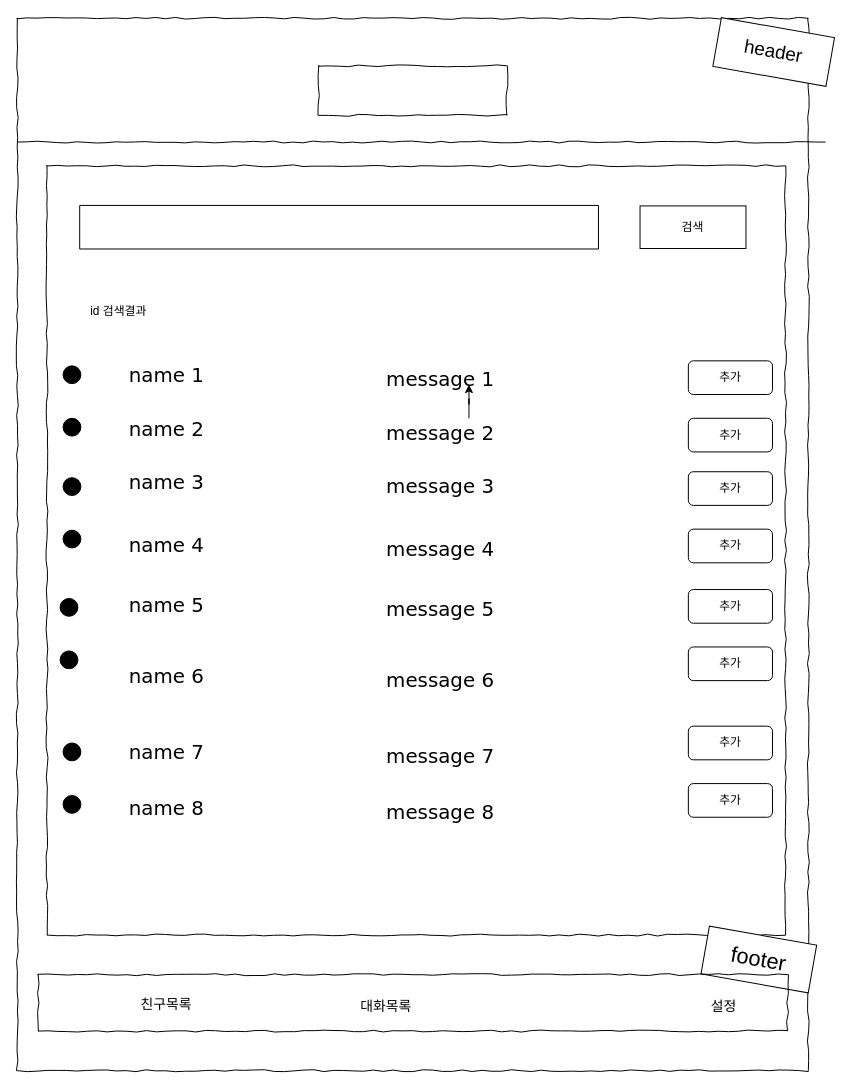
This 852x1088 diagram has some shape labels left out. Each missing label, with the centre of its shape:
"id 검색" belongs at pixel 338 226.
"JustTalk" belongs at pixel 412 90.
